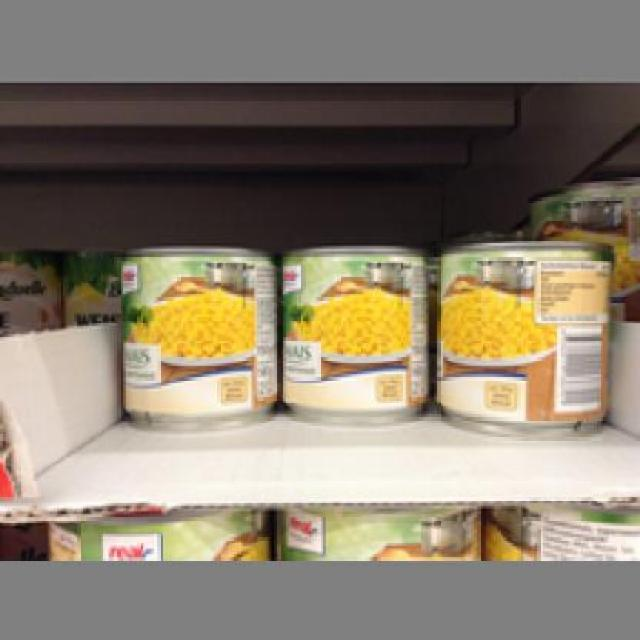Corn: (428, 234, 614, 437), (114, 242, 274, 428), (276, 243, 429, 426)
